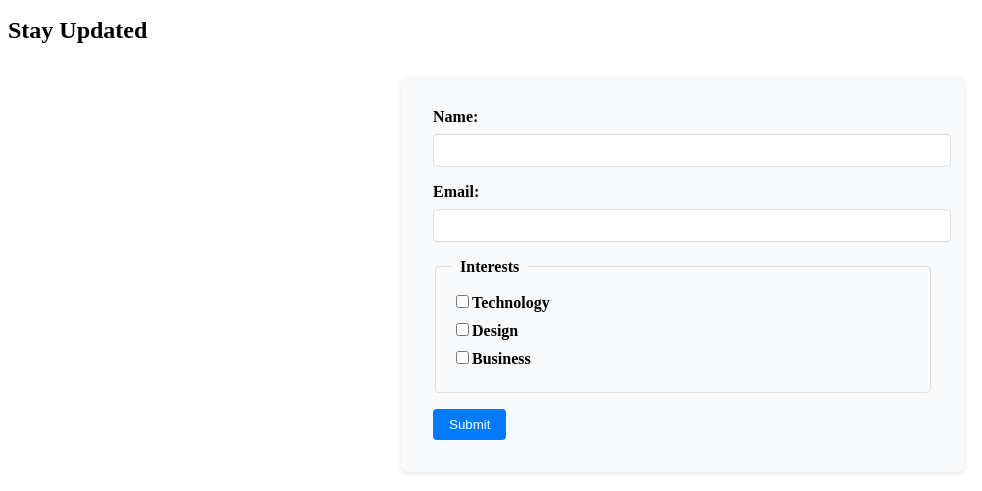
Test: Form Submission › displays success message after submission
Note: Fill out the form
Step 1. Type "John Doe" into the field labelled "Name:" → {"x": 692, "y": 150}, box 433,134 -> 951,167
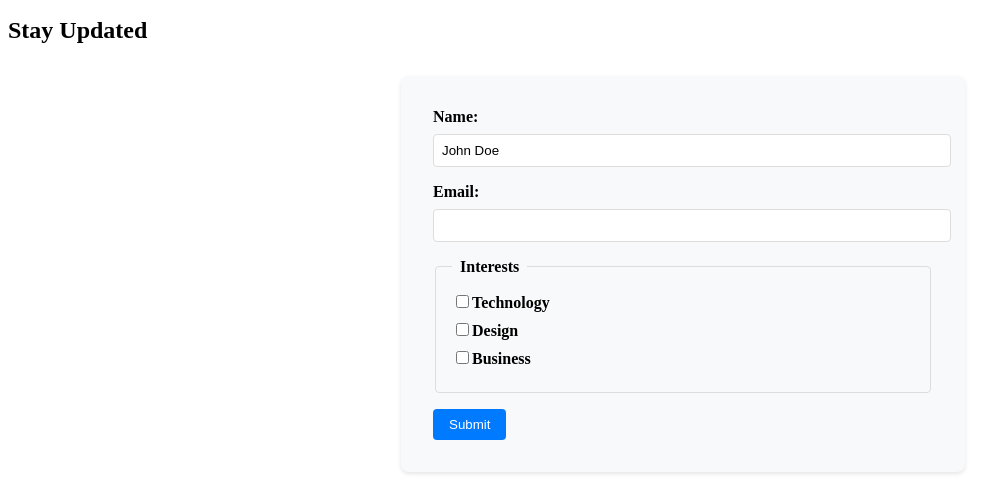
Step 2. Type "john@example.com" into the field labelled "Email:" → {"x": 692, "y": 225}, box 433,209 -> 951,242
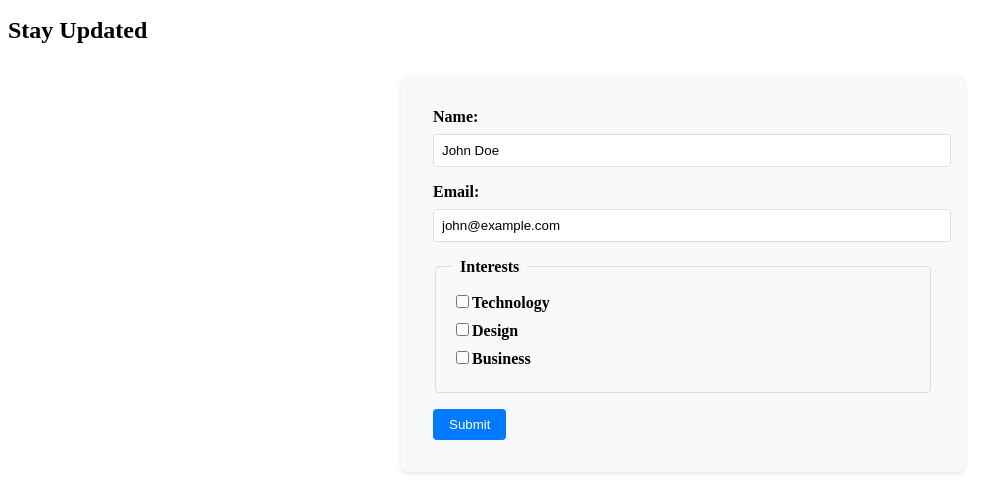
Step 3. Click the checkbox labelled "Technology" → {"x": 462, "y": 301}, box 456,295 -> 469,308
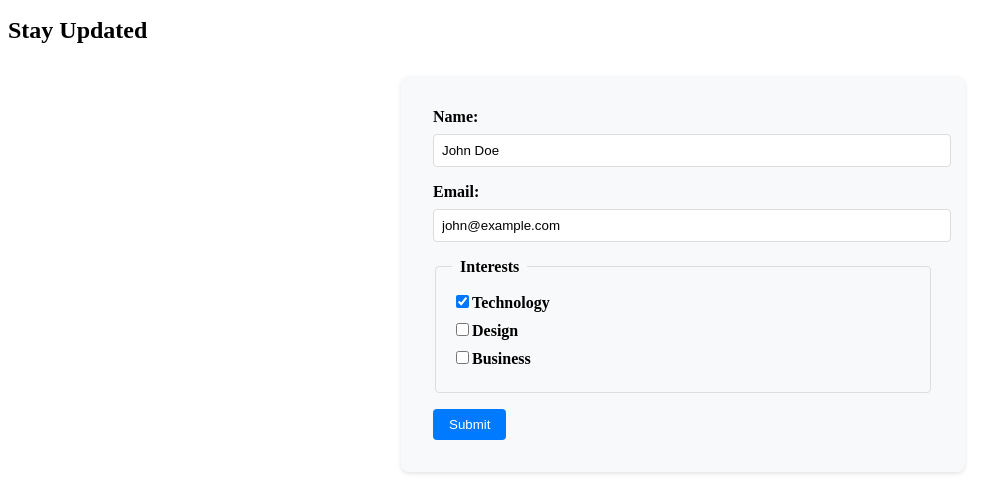
Step 4. Click the checkbox labelled "Business" → {"x": 462, "y": 357}, box 456,351 -> 469,364
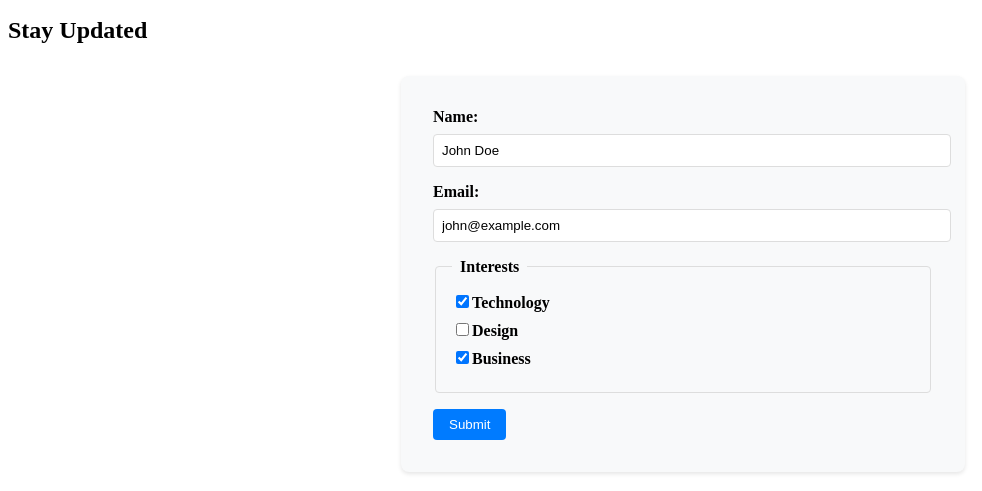
Note: Submit the form
Step 5. Click the button "Submit" → {"x": 470, "y": 424}, box 433,409 -> 506,440
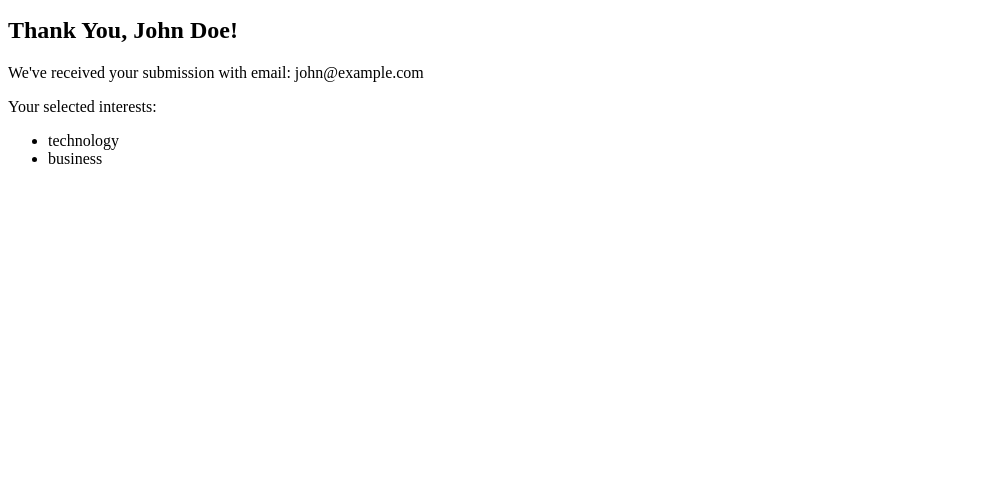
Expected: the heading "Thank You, John Doe!" is shown, 8,17 -> 238,43
Expected: the text "We've received your submission with email: john@example.com" is shown, 8,64 -> 424,81
Expected: the text "Design" is gone
